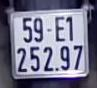1: (66, 15, 76, 43)
2: (42, 43, 55, 73), (15, 47, 29, 74)
5: (21, 14, 35, 45), (29, 45, 42, 74)
7: (71, 44, 84, 72)
9: (59, 44, 71, 72), (33, 16, 44, 43)
E: (53, 14, 66, 43)
